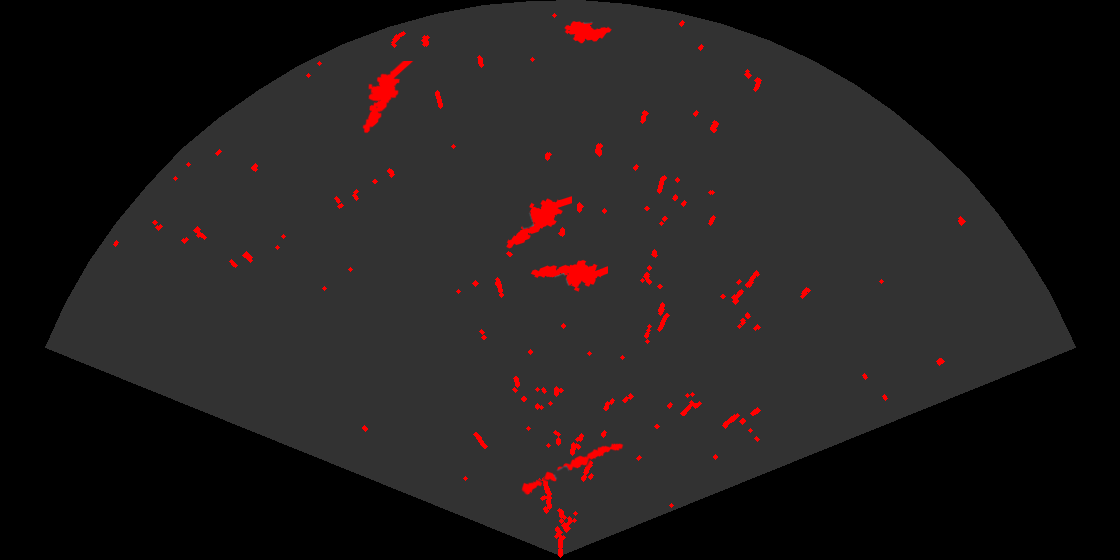AUV: (563, 20, 613, 45)
chain: (520, 442, 625, 497)
frogman: (361, 61, 415, 135), (505, 195, 572, 250), (529, 258, 608, 293)
